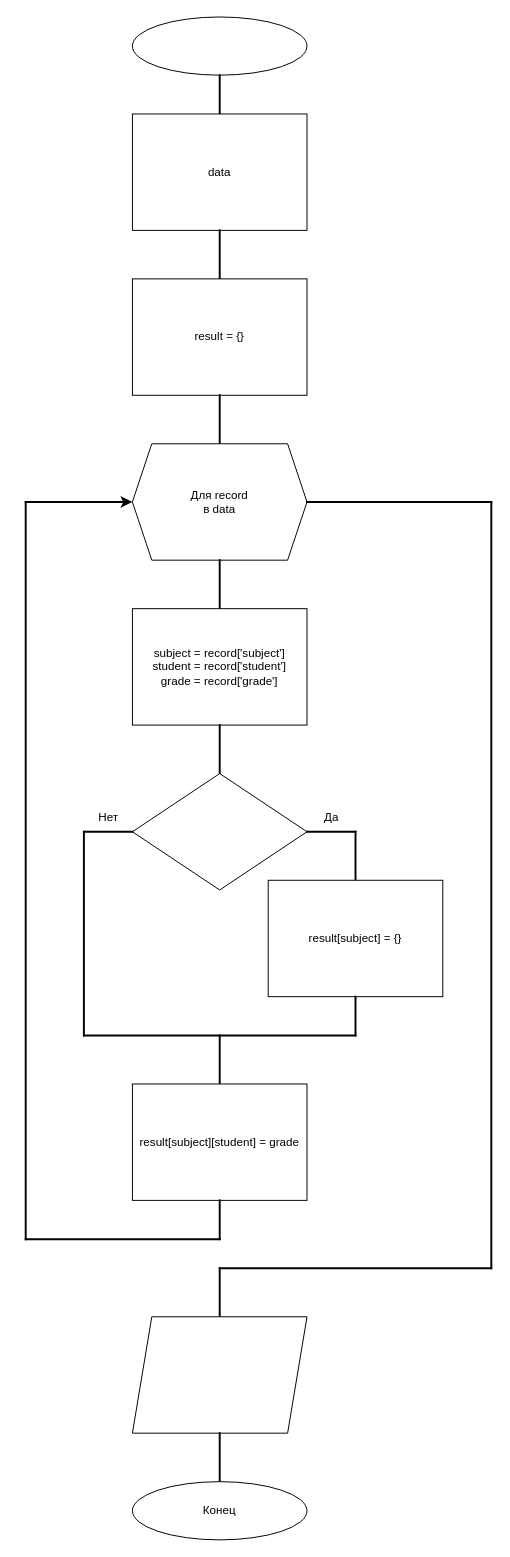
The diagram is 510 pixels wide and 1557 high, and some of its shapes have lost their labels. Each missing label, with the box of its shape:
subject нет в result?: (131, 773, 307, 890)
Вывод result: (131, 1316, 307, 1433)
Начало: (131, 16, 307, 75)
